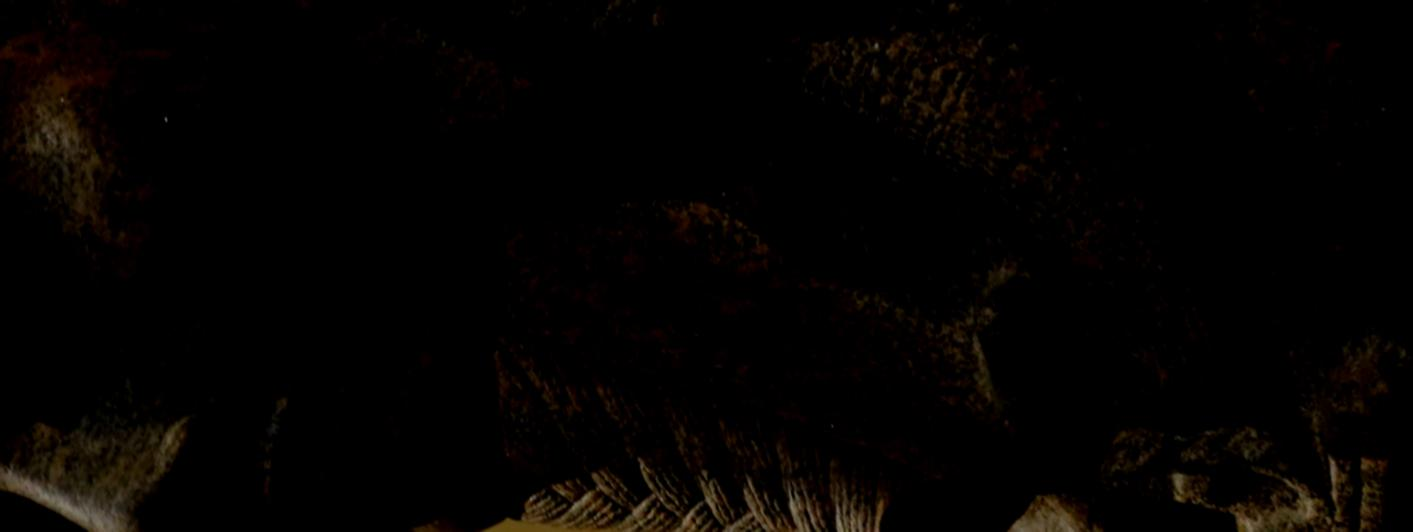Khonsu: (0, 0, 853, 532)
